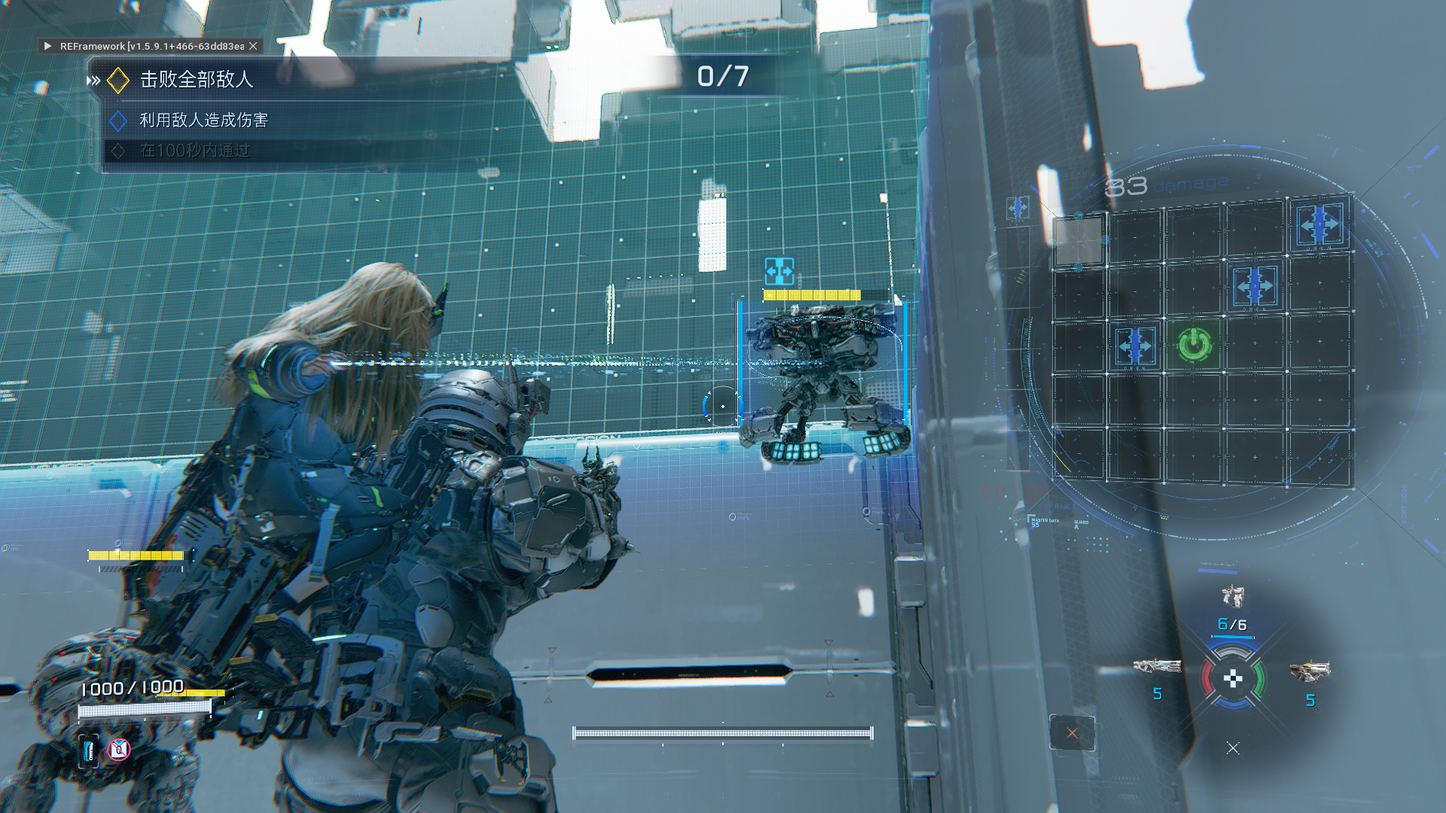puzzle_panel: (1047, 189, 1353, 492)
